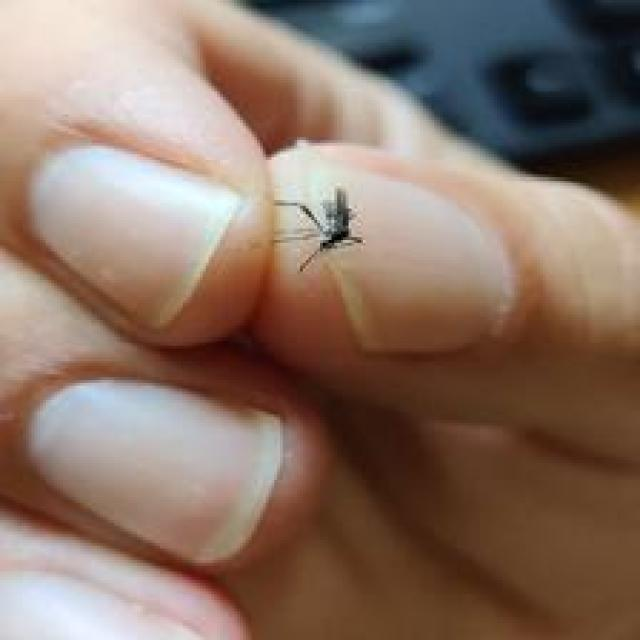Aedes albopictus: (270, 184, 364, 273)
